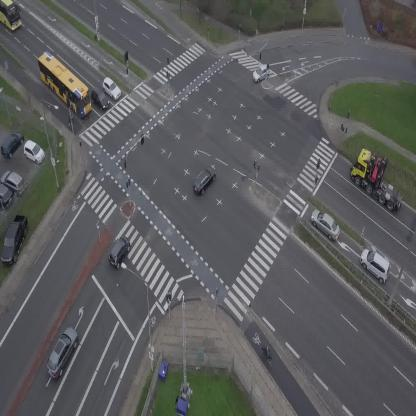bicycle: (259, 345, 275, 367), (67, 114, 75, 129), (194, 4, 203, 16)
bus: (29, 48, 101, 120)
car: (41, 323, 83, 381), (354, 245, 397, 286), (305, 206, 346, 243), (104, 233, 135, 270), (188, 163, 220, 197), (86, 86, 114, 113), (98, 76, 124, 102), (249, 62, 273, 84)
